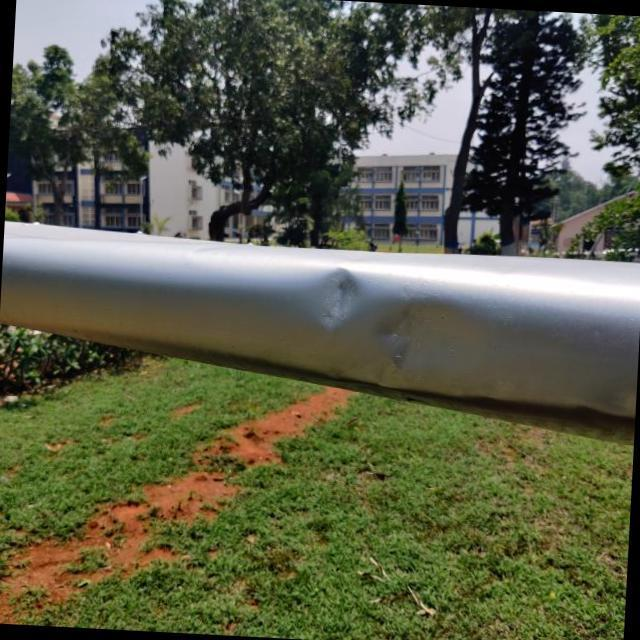Dent: (356, 288, 469, 408), (293, 252, 381, 346)
